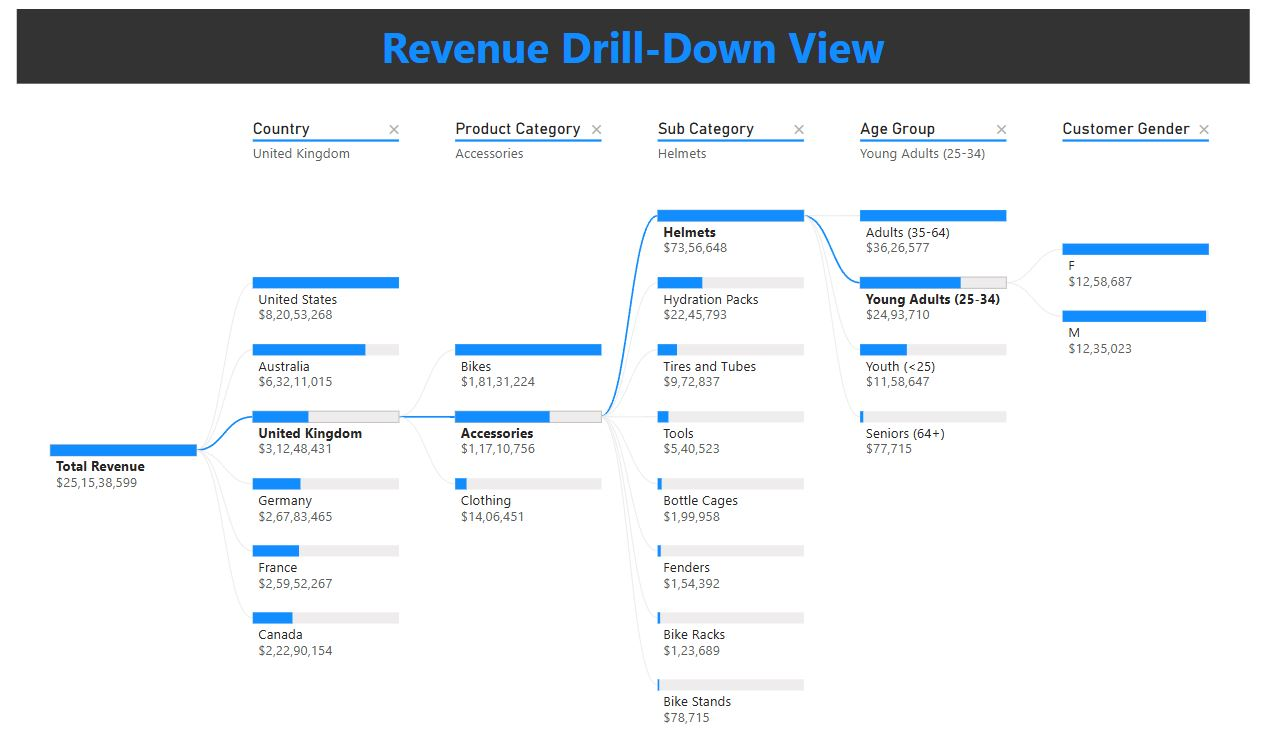

The page's visual inventory and layout, read from the dashboard file:
{"tool":"powerbi","page":{"name":"Revenue Drill-Down","canvas":[1280,720],"ordinal":3},"visuals":[{"type":"actionButton","box":[0,0,100,40],"z":0},{"type":"decompositionTreeVisual","fields":{"Analyze":["Maven Cycles Sales.Total Revenue"],"ExplainBy":["Maven Cycles Regions.Country","Maven Cycles Product Categories.Product Category","Maven Cycles Age Group.Age Group","Maven Cycles Gender.Customer Gender"]},"box":[125.5,113.4,1066.5,579.1],"z":1000}]}

Visuals, with their boxes on the page's 1280x720 design canvas (x1, y1, x2, y2). These are canvas units, not pixel positions in the 1268x741 screenshot, which may show the page scaled, cropped or inside an application window:
actionButton: {"left": 0, "top": 0, "right": 100, "bottom": 40}
decompositionTreeVisual - Maven Cycles Sales.Total Revenue x Maven Cycles Regions.Country: {"left": 126, "top": 113, "right": 1192, "bottom": 692}
